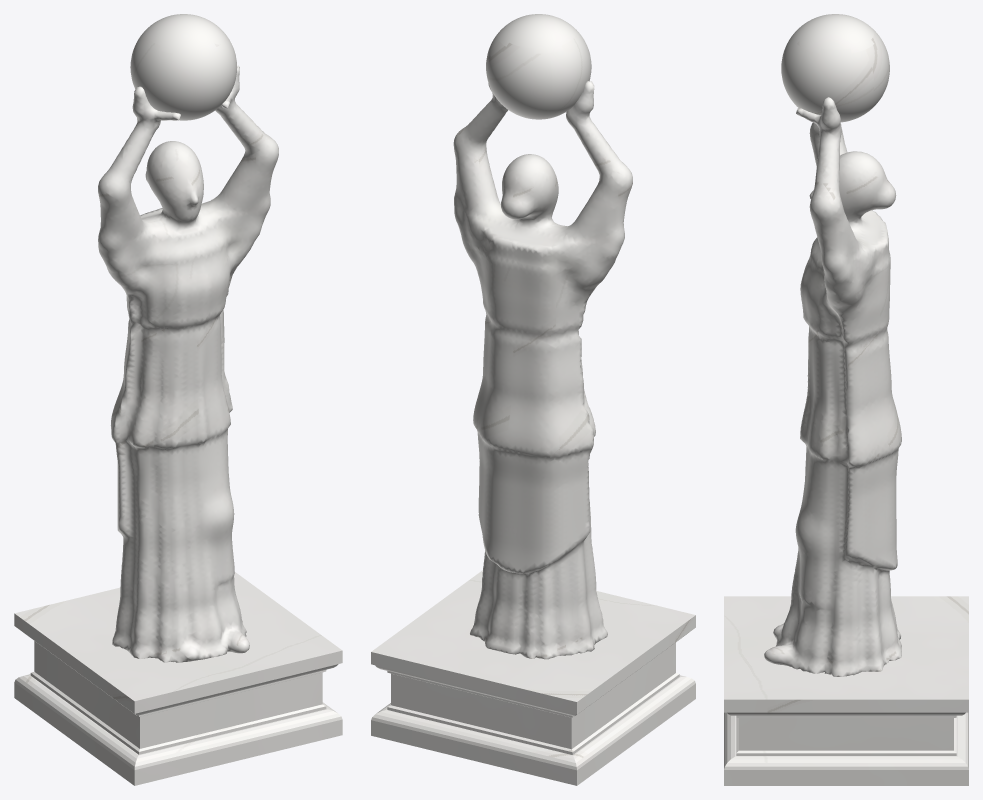
3 views of the same model, side by side, from view 1: azimuth 30°, elevation 25°; view 2: azimuth 150°, elevation 25°; view 3: azimuth 270°, elevation 25° (orthographic). The views are drawn at different scales.
Visible parts, largest first — view 1: Mesh_figure, Mesh_plinth, Mesh_orb; view 2: Mesh_figure, Mesh_plinth, Mesh_orb; view 3: Mesh_figure, Mesh_plinth, Mesh_orb.
Part boxes in pixels (x1=…): Mesh_figure: x1=98, y1=65, x2=278, y2=662; Mesh_plinth: x1=14, y1=572, x2=342, y2=785; Mesh_orb: x1=130, y1=14, x2=237, y2=120; Mesh_figure: x1=453, y1=81, x2=632, y2=659; Mesh_plinth: x1=371, y1=570, x2=695, y2=785; Mesh_orb: x1=486, y1=14, x2=591, y2=119; Mesh_figure: x1=764, y1=97, x2=901, y2=676; Mesh_plinth: x1=724, y1=596, x2=968, y2=785; Mesh_orb: x1=781, y1=14, x2=889, y2=122.
Bounding box in the file's own units: 0.9 × 2.9 × 0.9.
1 material, 1 textured.
